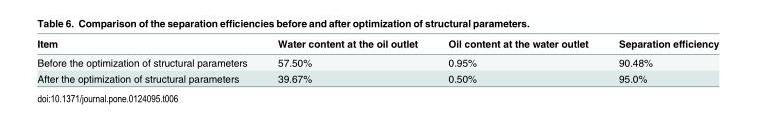table: (36, 37, 718, 83)
table column: (36, 37, 261, 83), (261, 37, 432, 83), (432, 37, 602, 83), (602, 37, 718, 83)
table column header: (36, 37, 718, 52)
table row: (36, 52, 718, 70), (36, 37, 718, 52), (36, 70, 718, 83)
